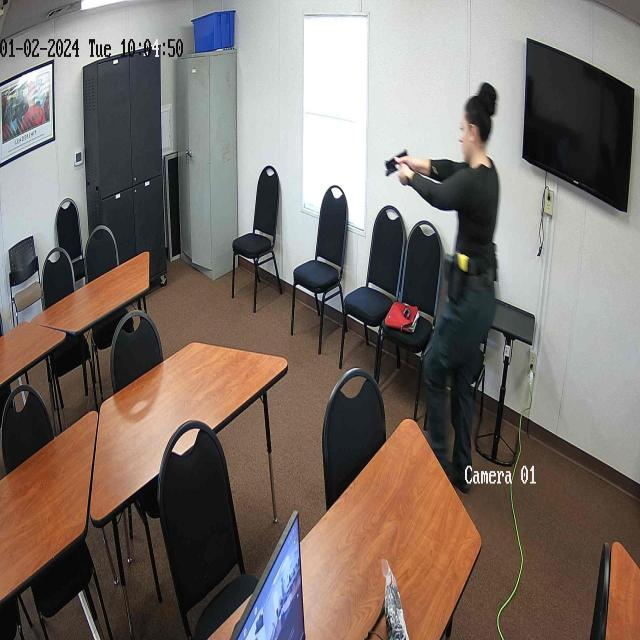weapon: (385, 149, 409, 188)
